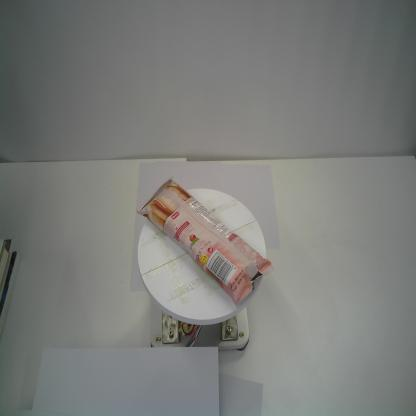Dessert: (136, 176, 275, 311)
